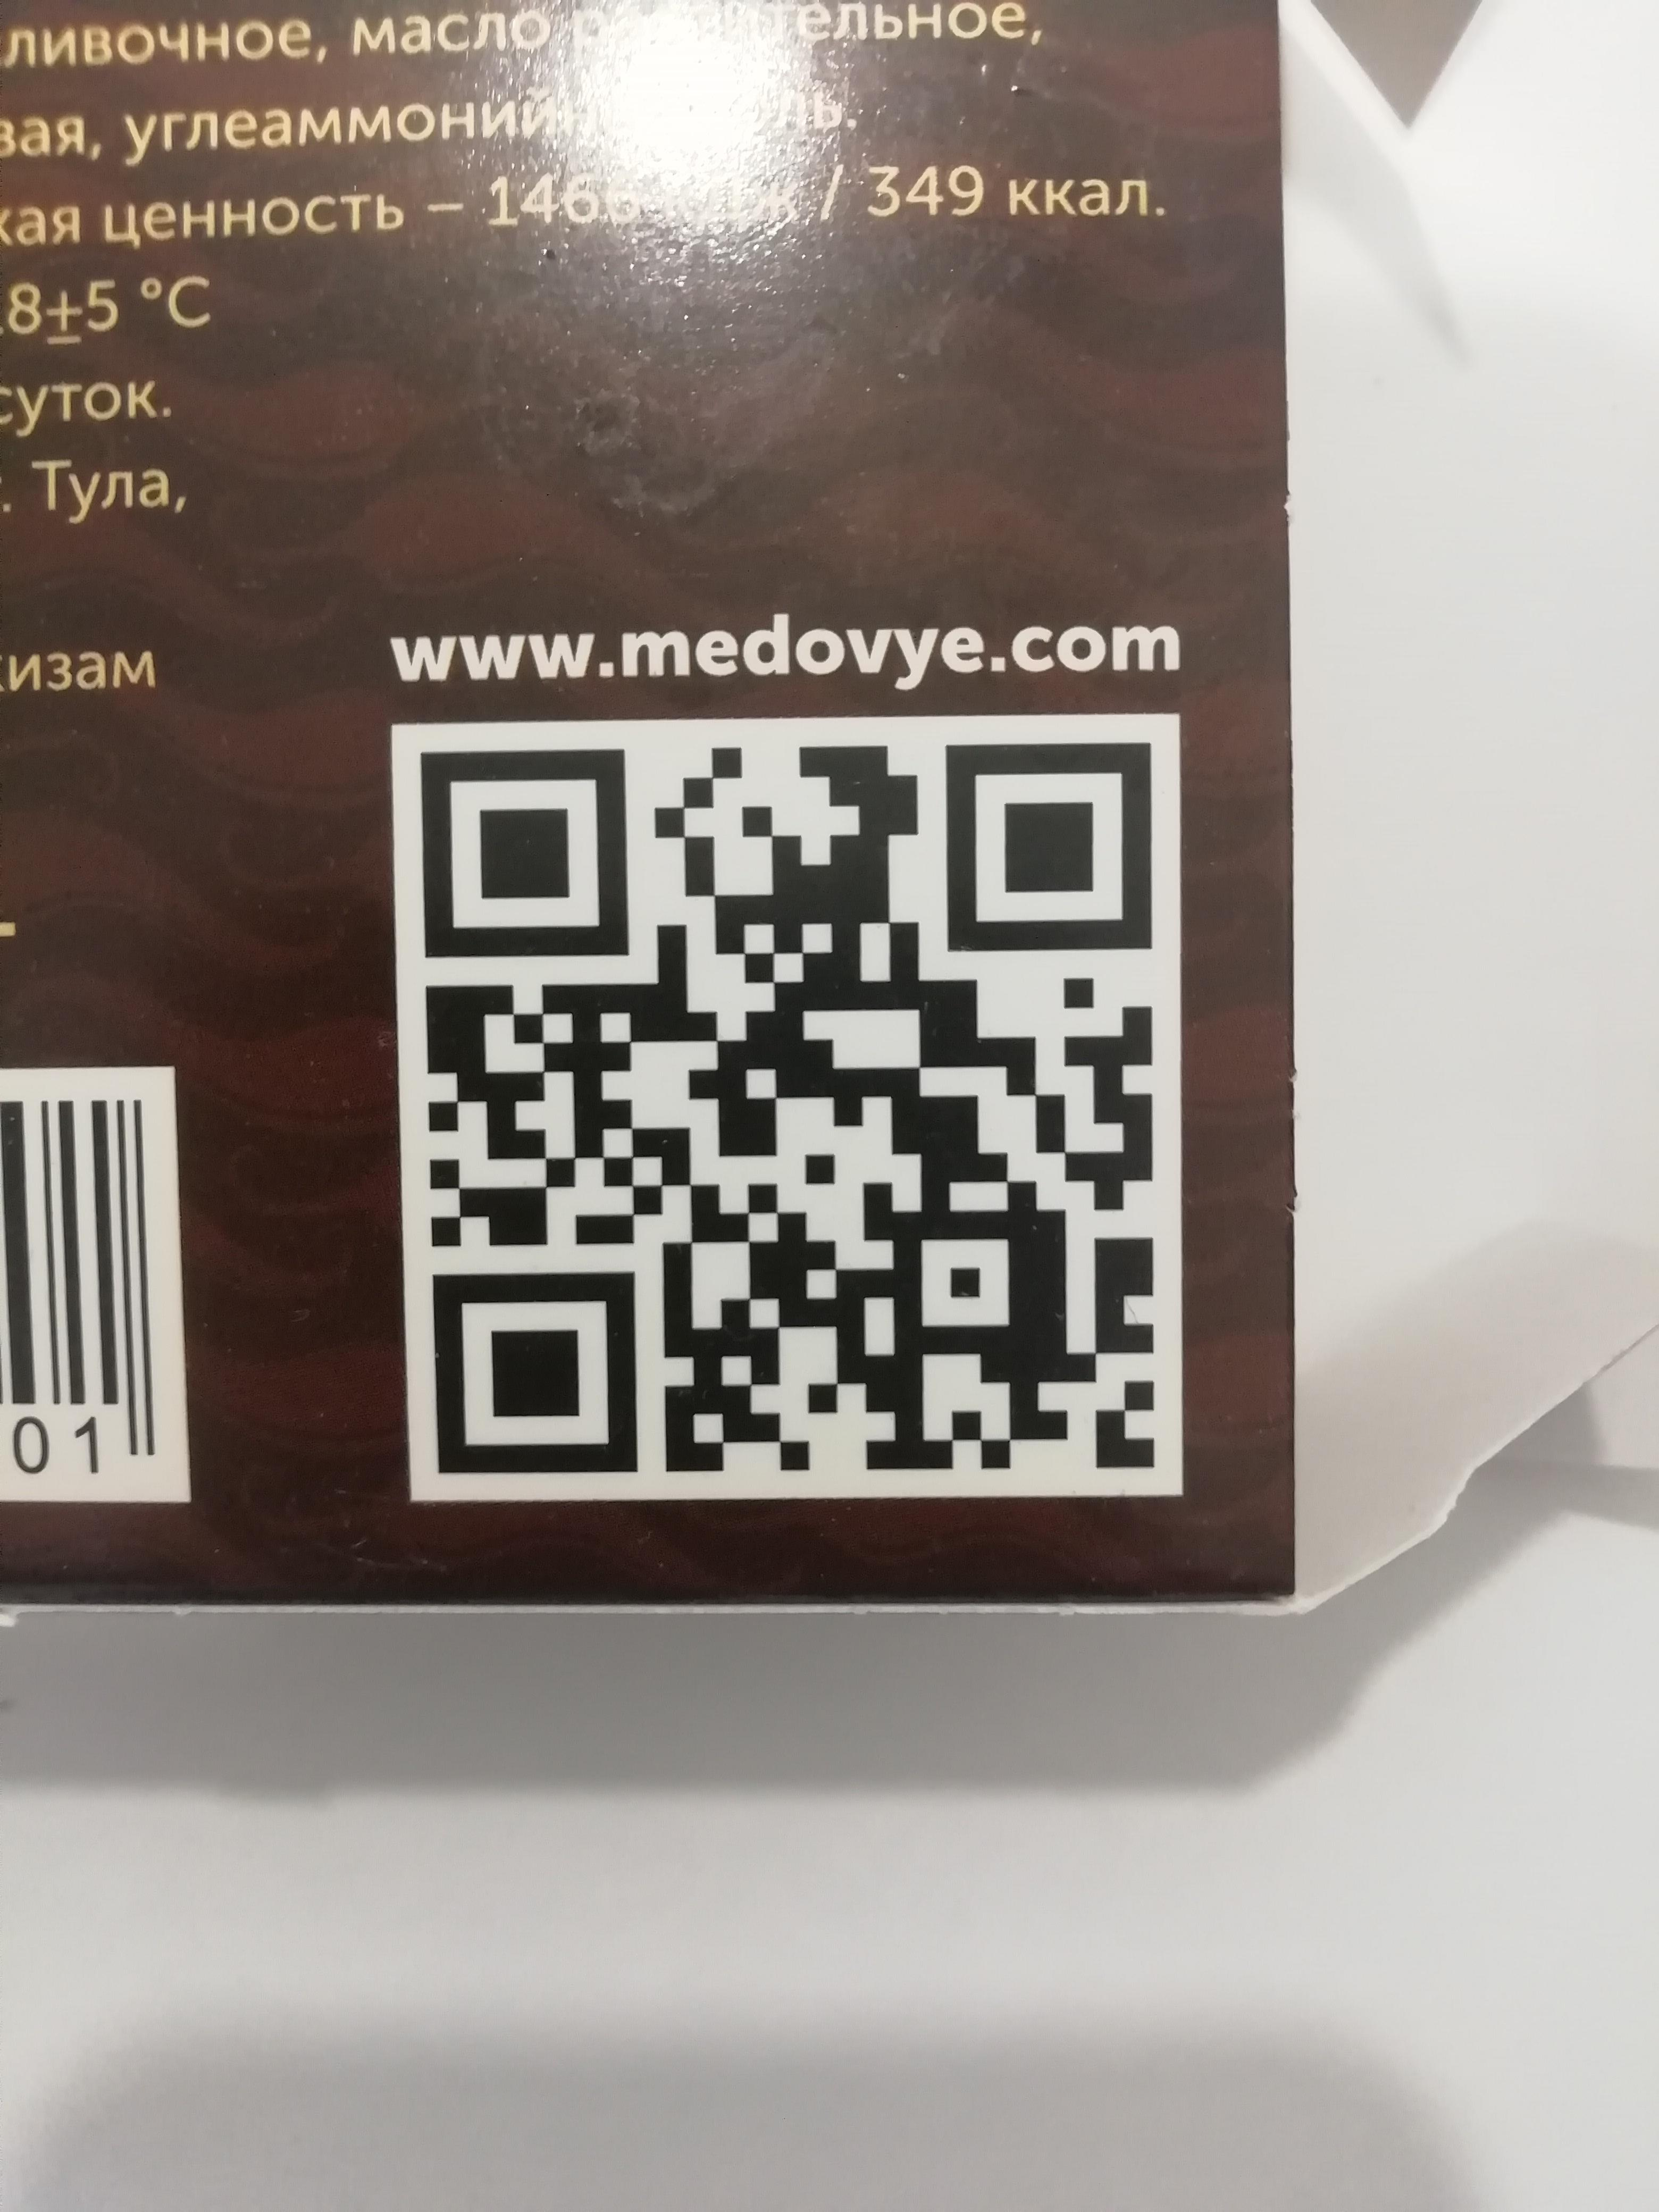qrcode: (418, 745, 1154, 1475)
